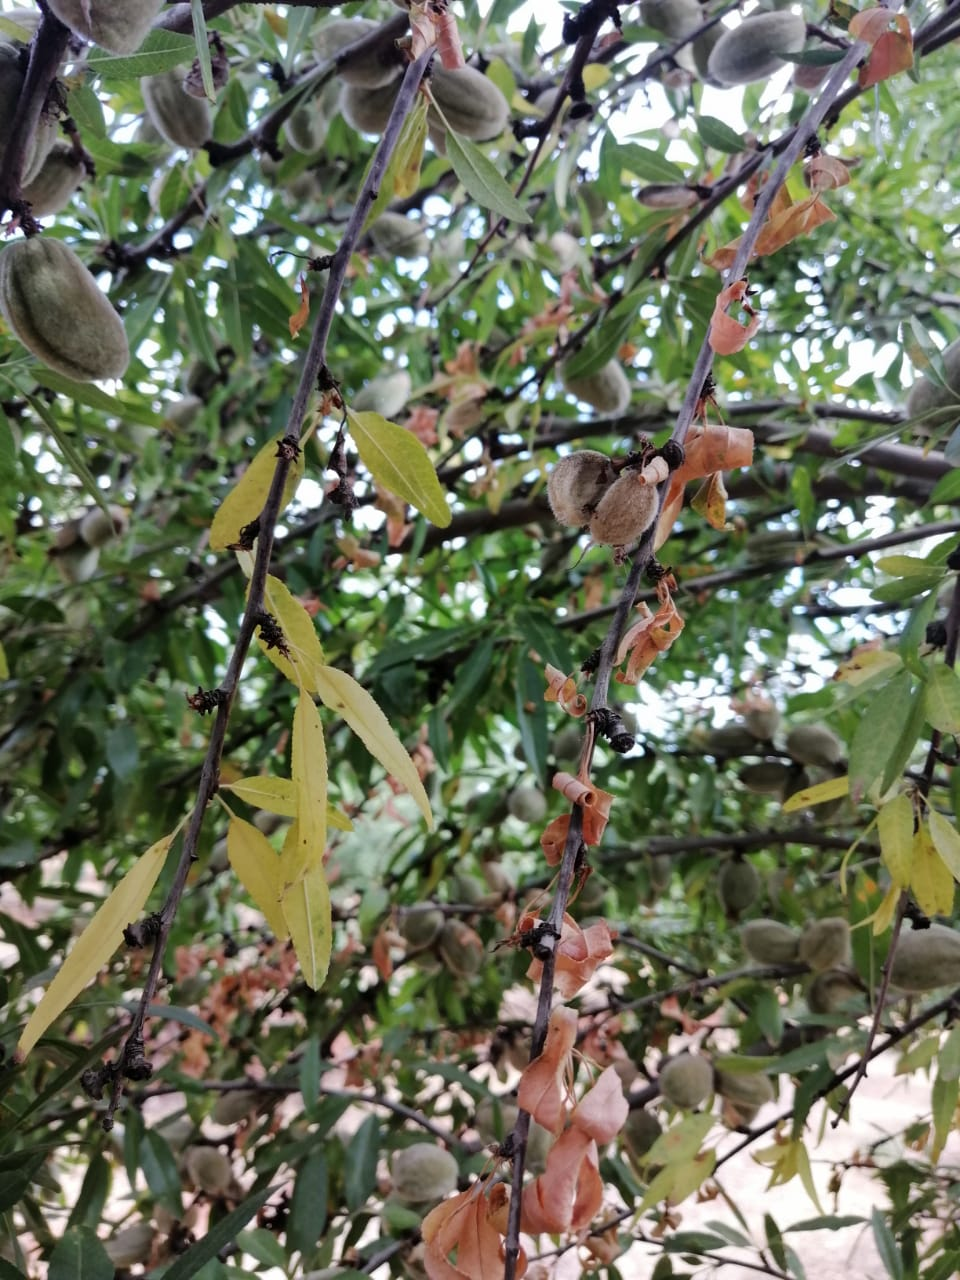chancre fusicocum: (422, 4, 921, 1280), (15, 38, 449, 1276)
